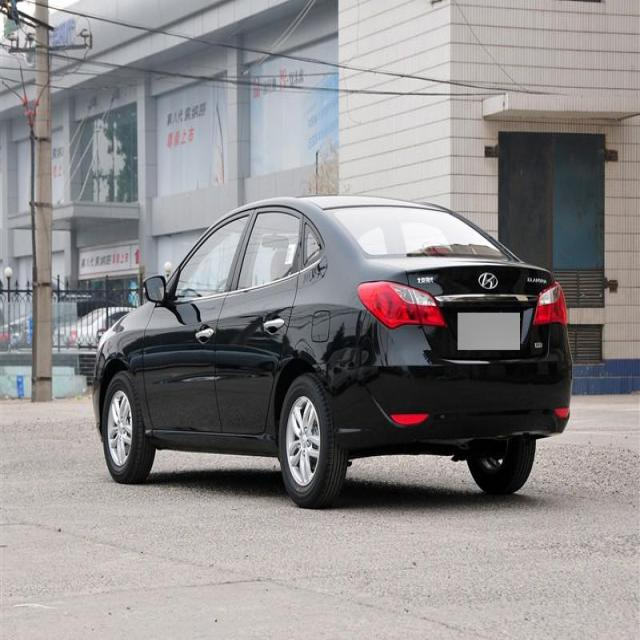back_glass: (320, 204, 514, 263)
back_left_side_light: (355, 279, 448, 328)
back_right_side_light: (531, 280, 569, 328)
door: (221, 216, 307, 442)
front_left_side_door: (140, 205, 255, 438)
front_left_side_light: (96, 320, 123, 352)
front_left_side_mirror: (142, 272, 168, 305)
rear_bumper: (330, 345, 574, 456)
wheel: (278, 376, 346, 509), (100, 373, 154, 483), (466, 437, 536, 494)
